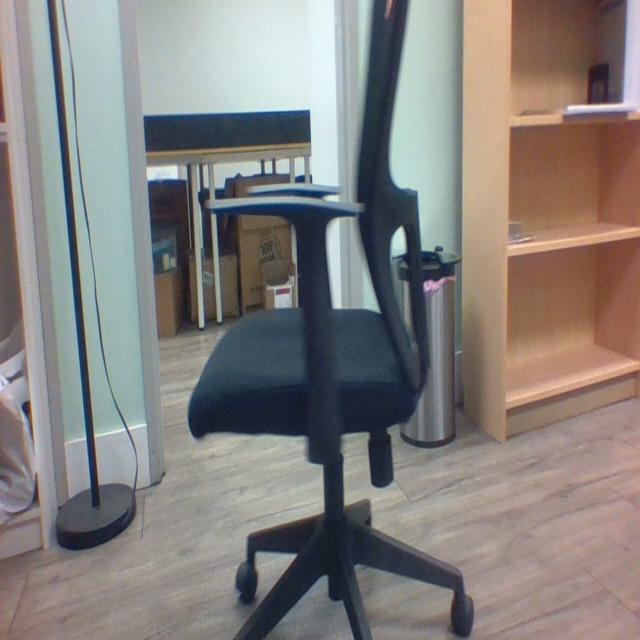black-chair: (188, 1, 479, 639)
